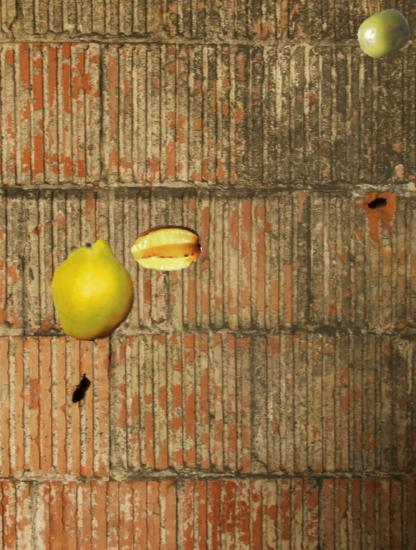Carambula: (131, 212, 202, 283)
Pomelo: (356, 6, 411, 61)
Quince: (41, 237, 145, 341)
